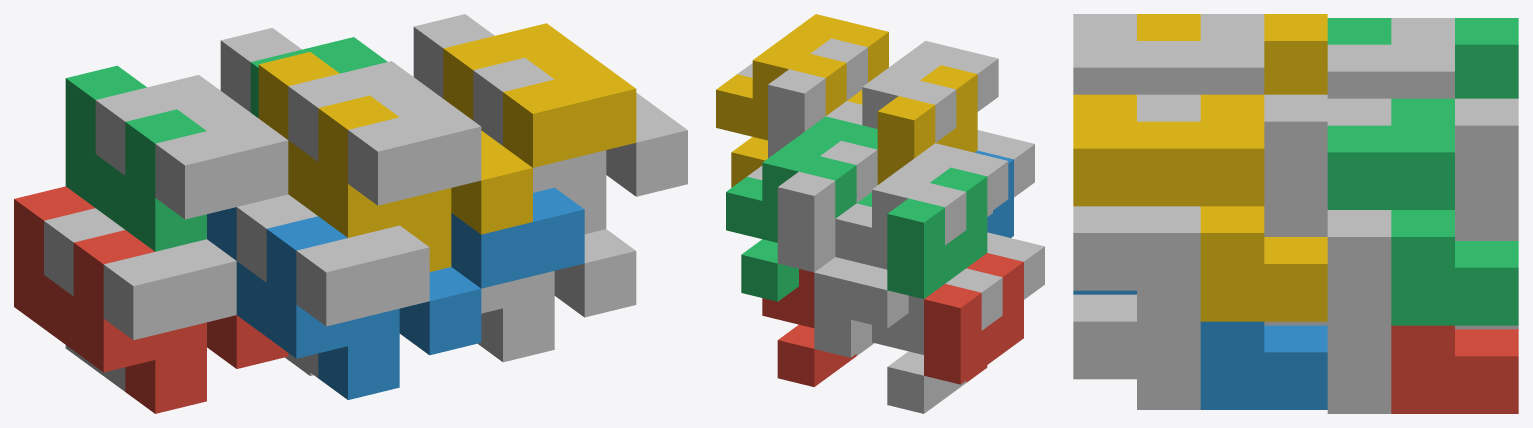
File: tiling.obj
The picture shows the model from 3 angles, left to right: view 1: azimuth 30°, elevation 25°; view 2: azimuth 150°, elevation 25°; view 3: azimuth 270°, elevation 25°; orthographic projection. The views are drawn at different scales.
Visible parts, largest first — view 1: copy_1_domain_1, copy_1_domain_2, copy_1_domain_4, copy_2_domain_4, copy_2_domain_3, copy_2_domain_8, copy_1_domain_8, copy_2_domain_1, copy_2_domain_2, copy_1_domain_3, copy_1_domain_6, copy_2_domain_6 (+2 smaller); view 2: copy_2_domain_3, copy_2_domain_7, copy_2_domain_8, copy_1_domain_3, copy_1_domain_1, copy_2_domain_1, copy_1_domain_7, copy_2_domain_4, copy_1_domain_4, copy_1_domain_8, copy_2_domain_5, copy_1_domain_5 (+2 smaller); view 3: copy_2_domain_8, copy_2_domain_7, copy_1_domain_8, copy_1_domain_7, copy_2_domain_4, copy_1_domain_6, copy_2_domain_6, copy_2_domain_5, copy_2_domain_3, copy_1_domain_3, copy_1_domain_4, copy_1_domain_5.
Boxes of the visible parts, <box> form: copy_1_domain_1: <box>14,186,288,413</box>; copy_1_domain_2: <box>207,207,481,399</box>; copy_1_domain_4: <box>258,52,532,271</box>; copy_2_domain_4: <box>288,61,481,205</box>; copy_2_domain_3: <box>95,75,288,219</box>; copy_2_domain_8: <box>443,23,636,167</box>; copy_1_domain_8: <box>413,14,687,234</box>; copy_2_domain_1: <box>44,208,236,391</box>; copy_2_domain_2: <box>236,194,429,377</box>; copy_1_domain_3: <box>65,65,206,251</box>; copy_1_domain_6: <box>478,229,636,362</box>; copy_2_domain_6: <box>451,187,584,288</box>; copy_2_domain_3: <box>835,143,1008,328</box>; copy_2_domain_7: <box>726,116,877,301</box>; copy_2_domain_8: <box>716,14,888,187</box>; copy_1_domain_3: <box>857,167,987,298</box>; copy_1_domain_1: <box>924,253,1023,384</box>; copy_2_domain_1: <box>872,232,1044,413</box>; copy_1_domain_7: <box>747,141,877,272</box>; copy_2_domain_4: <box>826,40,998,142</box>; copy_1_domain_4: <box>847,65,977,184</box>; copy_1_domain_8: <box>737,38,867,158</box>; copy_2_domain_5: <box>762,269,856,386</box>; copy_1_domain_5: <box>814,257,874,357</box>; copy_2_domain_8: <box>1073,94,1327,321</box>; copy_2_domain_7: <box>1327,98,1518,325</box>; copy_1_domain_8: <box>1073,94,1327,321</box>; copy_1_domain_7: <box>1327,98,1518,325</box>; copy_2_domain_4: <box>1073,14,1264,94</box>; copy_1_domain_6: <box>1073,294,1327,409</box>; copy_2_domain_6: <box>1073,290,1327,409</box>; copy_2_domain_5: <box>1391,325,1518,413</box>; copy_2_domain_3: <box>1327,18,1454,98</box>; copy_1_domain_3: <box>1327,18,1518,98</box>; copy_1_domain_4: <box>1137,14,1327,94</box>; copy_1_domain_5: <box>1327,325,1518,413</box>.
Bounding box in the file's own units: 9 × 6 × 7.
